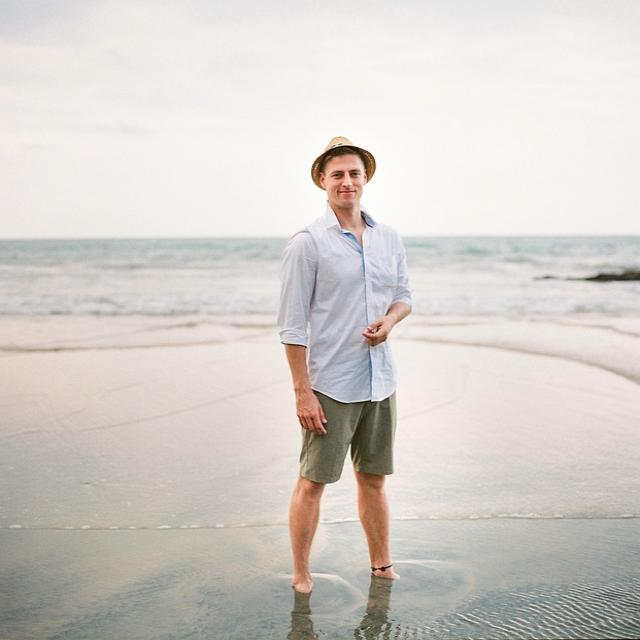Real human 2: (256, 119, 438, 612)
